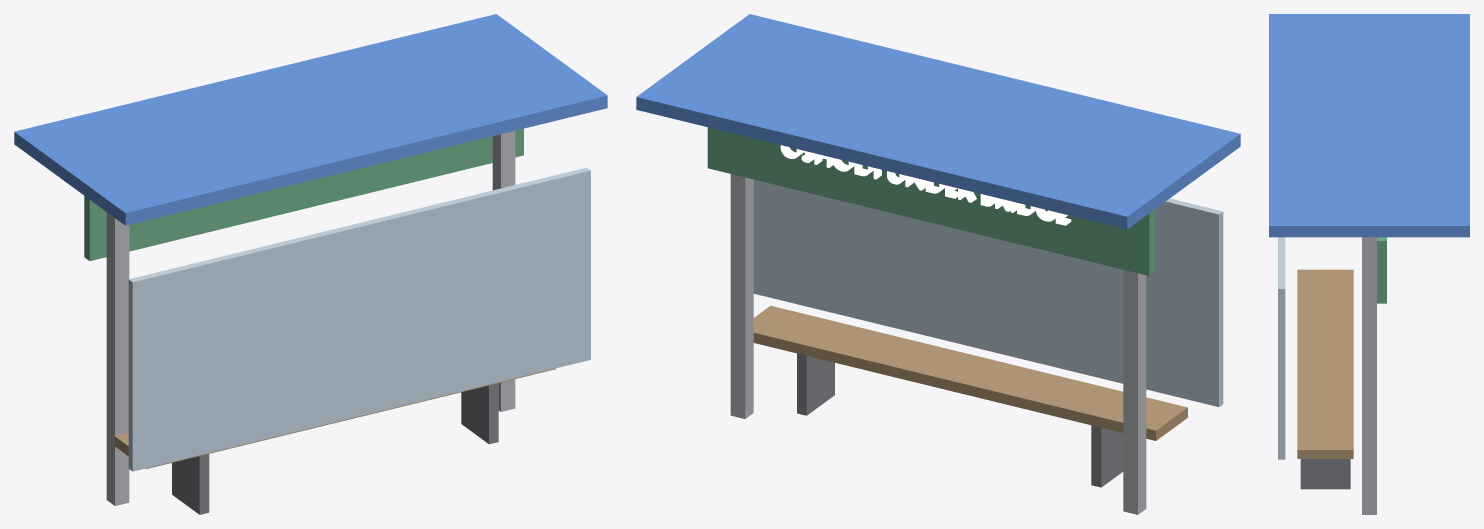
The model's file is bus_shelter.glb.
3 renders of one model, left to right at view 1: azimuth 30°, elevation 25°; view 2: azimuth 150°, elevation 25°; view 3: azimuth 270°, elevation 25°, orthographic. The views are drawn at different scales.
Parts seen in each view (by area): view 1: BLD_bus_shelter; view 2: BLD_bus_shelter; view 3: BLD_bus_shelter.
Part boxes in pixels (<box>): BLD_bus_shelter: <box>14,14,607,514</box>; BLD_bus_shelter: <box>636,14,1240,514</box>; BLD_bus_shelter: <box>1269,14,1469,514</box>.
Size of the model in its own units: 4 by 2.7 by 1.6.
